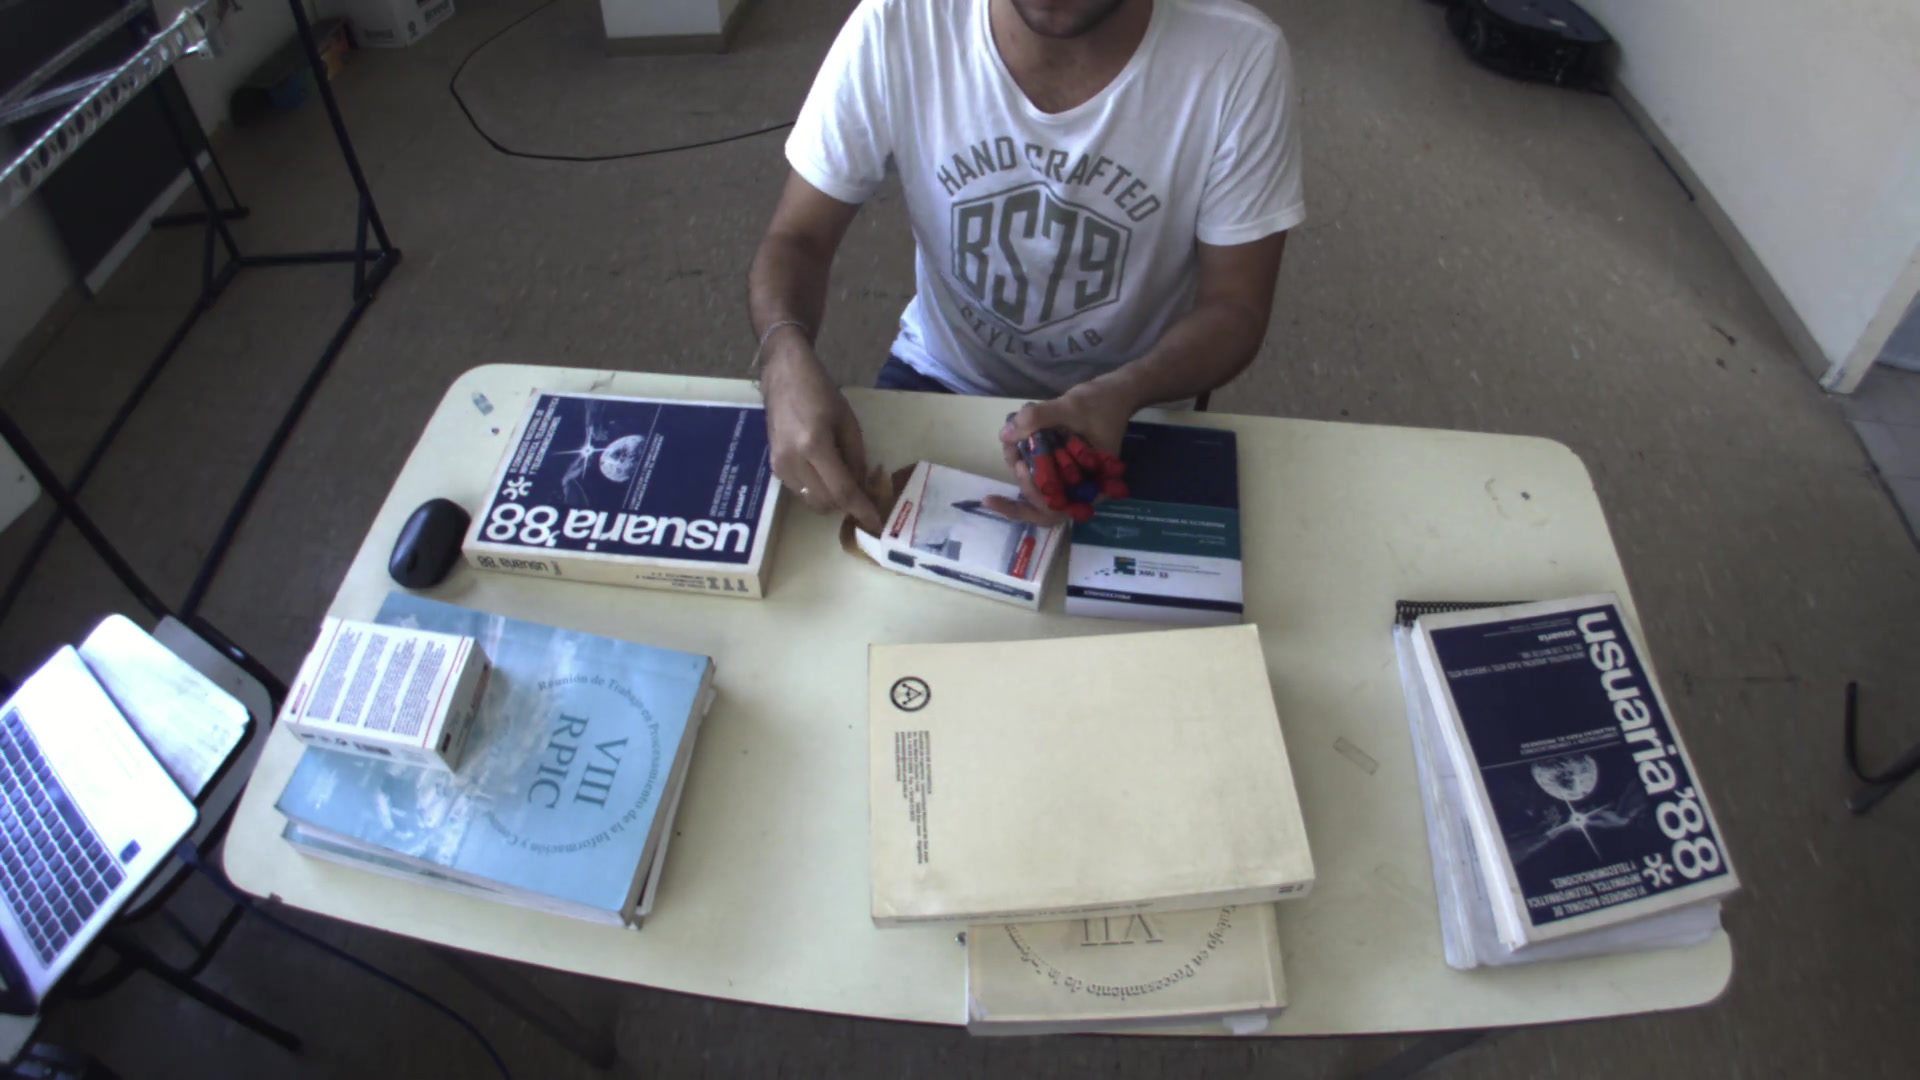hand: (746, 336, 894, 526), (994, 364, 1145, 516)
